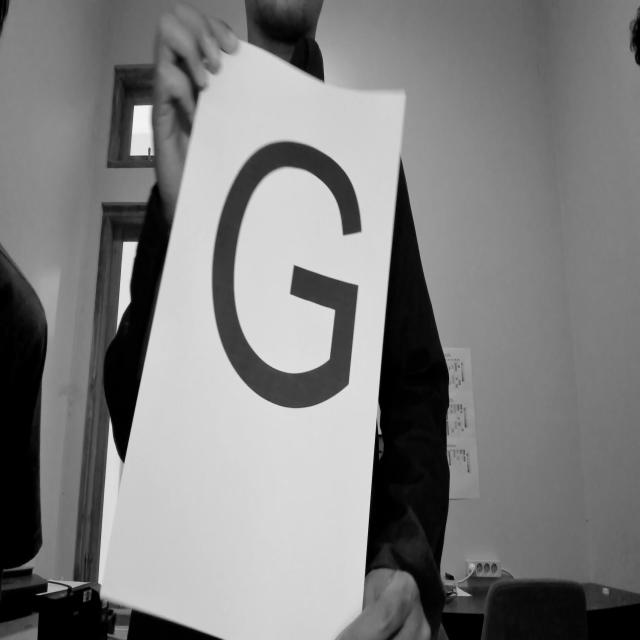g: (200, 127, 360, 424)
